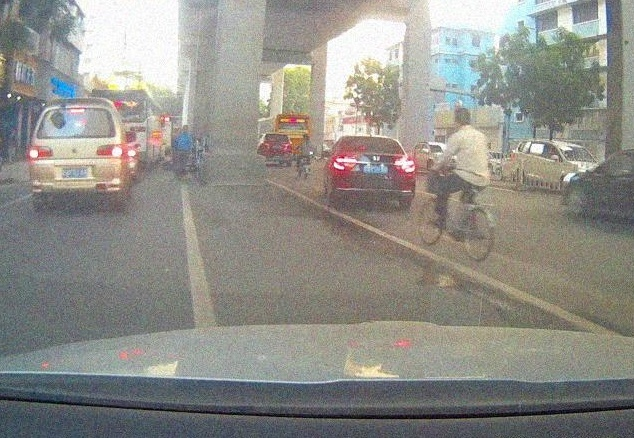L_light: (332, 158, 357, 171), (29, 146, 53, 158)
R_light: (96, 143, 123, 158), (394, 160, 414, 173)
T_light: (71, 108, 85, 113), (367, 137, 377, 139)
day-brake: (29, 97, 125, 205), (327, 135, 415, 208)
